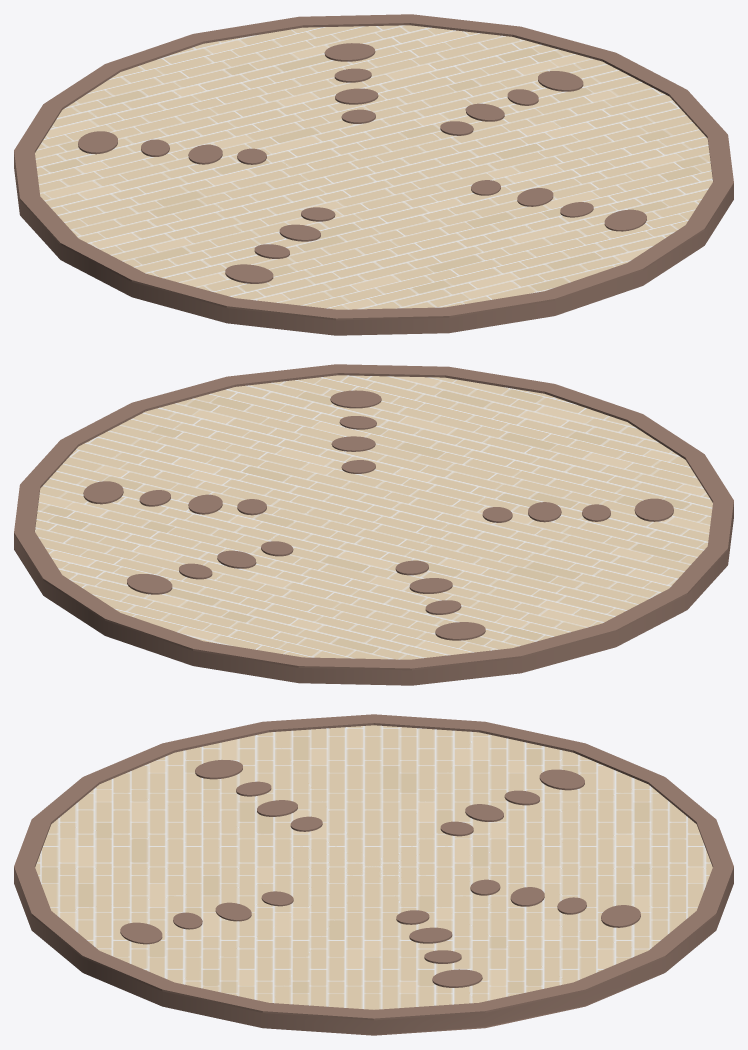
Rendered from map.fbx.
3 renders of one model, top to bottom at view 1: azimuth 30°, elevation 25°; view 2: azimuth 150°, elevation 25°; view 3: azimuth 270°, elevation 25°, orthographic.
Parts seen in each view (by area): view 1: bottom1, frame, stone; view 2: bottom1, frame, stone; view 3: bottom1, frame, stone.
Part boxes in pixels (x1,y1,x2,y2): bottom1: (35,25,712,309); frame: (14,14,733,335); stone: (78,43,646,283); bottom1: (35,375,712,659); frame: (14,364,733,685); stone: (83,390,673,640); bottom1: (35,725,712,1009); frame: (14,714,733,1035); stone: (120,760,640,987).
Size of the model in its own units: 88.37 by 2.32 by 88.37.
